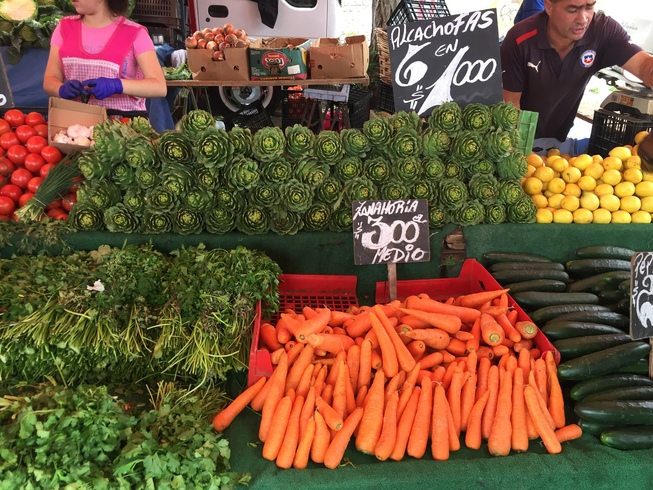precio: (387, 11, 505, 126), (347, 191, 441, 274)
